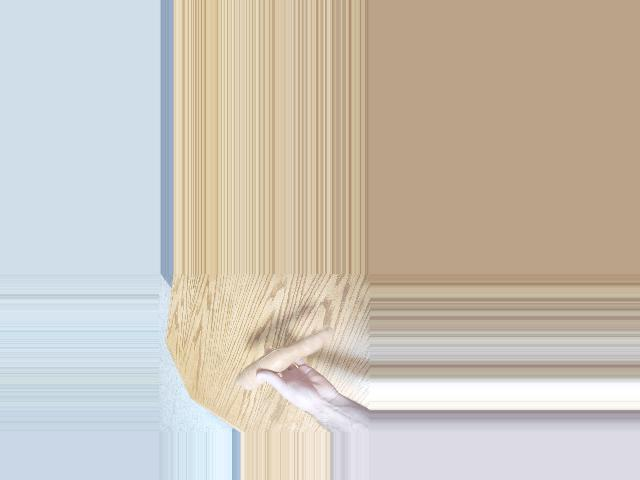sweet_potato: (225, 334, 332, 386)
